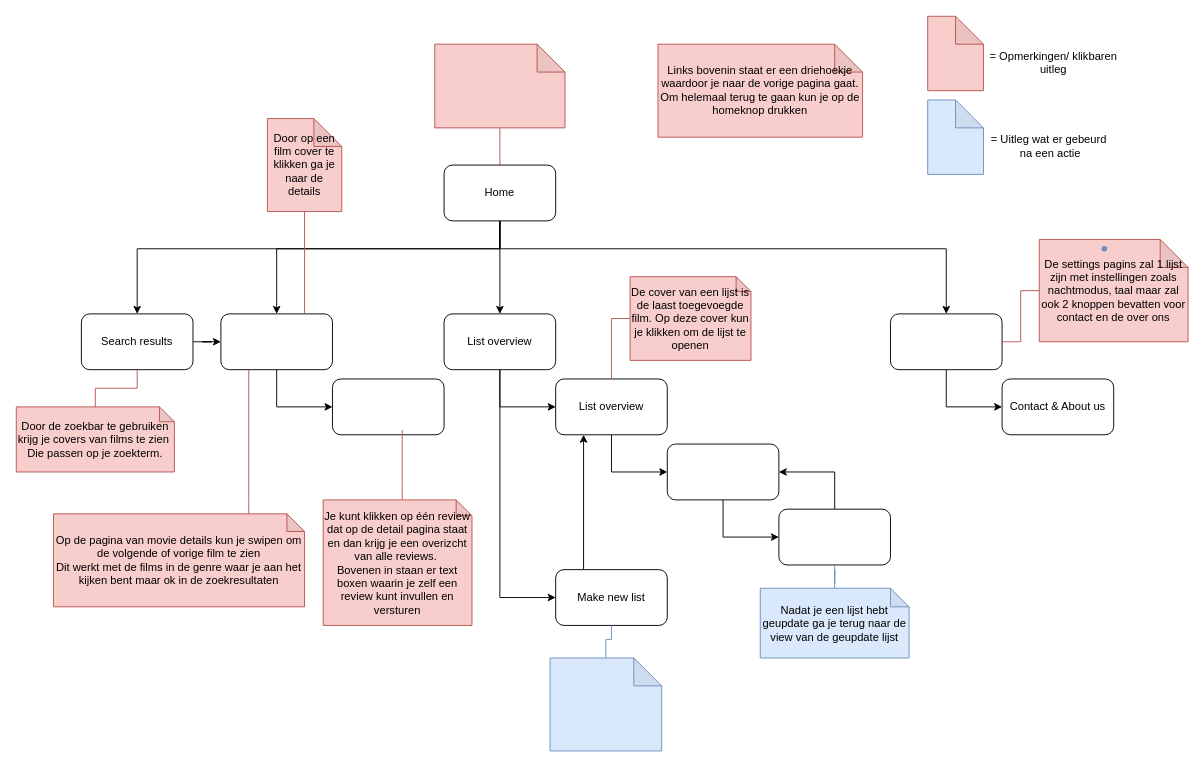
Image size: 1204x767. Some labels were removed from this diagram. The box of each missing label's shape, as (x1, y1, x2, y2) in pixels:
3 knoppen: settings, lijst overzicht, home knop: (434, 43, 565, 128)
Movie details: (220, 313, 332, 370)
Nadat je een lijst hebt gemaakt ga je terug naar het overzicht.: (549, 657, 662, 751)
Overview reviews: (332, 378, 444, 435)
Settings: (890, 313, 1002, 370)
Update list: (778, 508, 890, 565)
View list: (666, 443, 779, 500)
